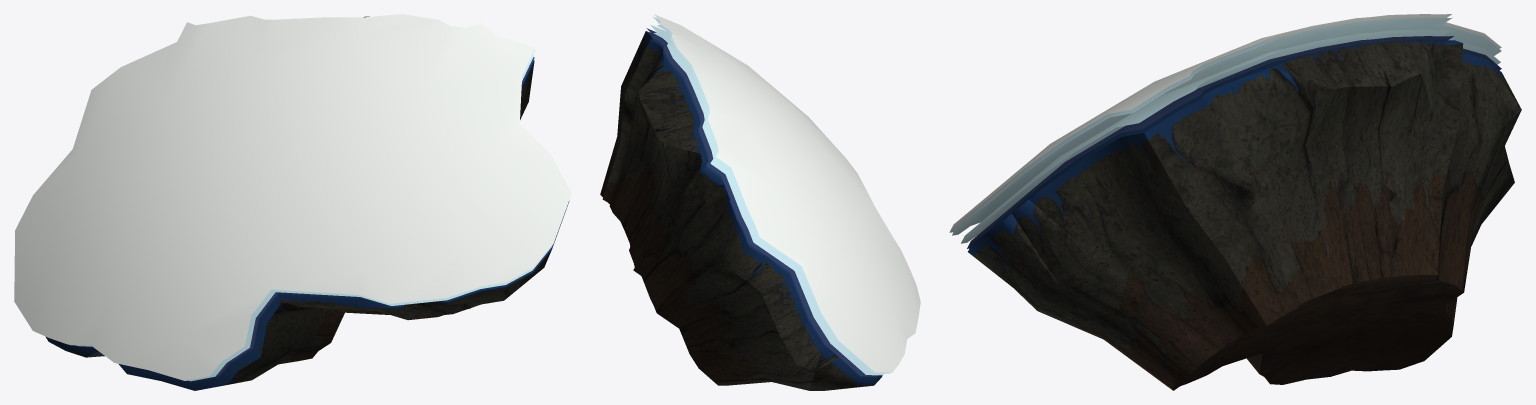
File: Piece 7.fbx
3 renders of one model, left to right at view 1: azimuth 30°, elevation 25°; view 2: azimuth 150°, elevation 25°; view 3: azimuth 270°, elevation 25°, orthographic. The views are drawn at different scales.
Visible parts, largest first — view 1: Piece_7; view 2: Piece_7; view 3: Piece_7.
Part boxes in pixels (<box>): Piece_7: <box>14,14,571,390</box>; Piece_7: <box>600,14,920,390</box>; Piece_7: <box>949,14,1521,390</box>.
Bounding box in the file's own units: 3695 × 2869 × 3766.
